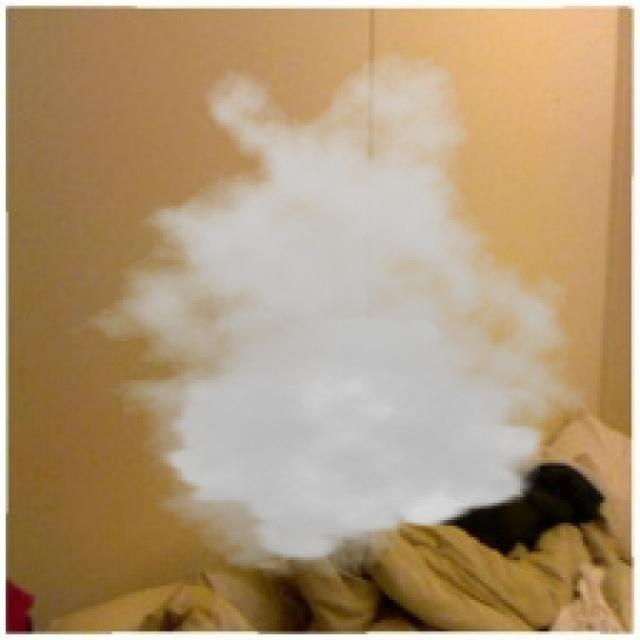smoke: (60, 49, 597, 580)
